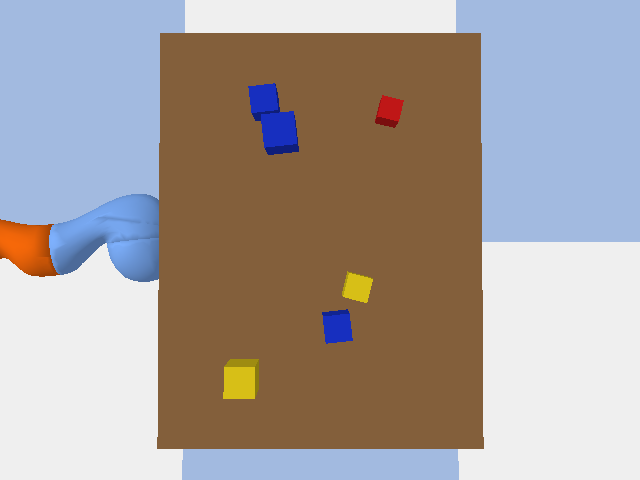blue_obj: (261, 111, 298, 154), (248, 83, 279, 120), (322, 309, 352, 343)
red_obj: (375, 95, 403, 127)
yellow_obj: (223, 359, 258, 398), (342, 271, 372, 302)
